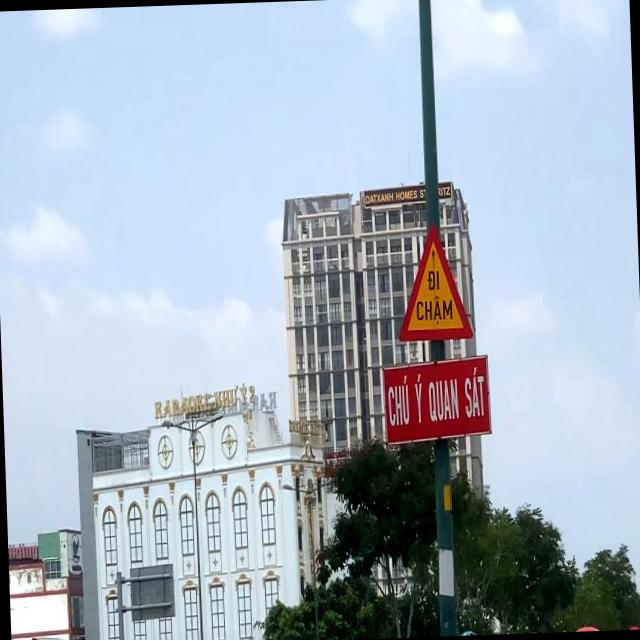W-245a: (396, 218, 474, 343)
